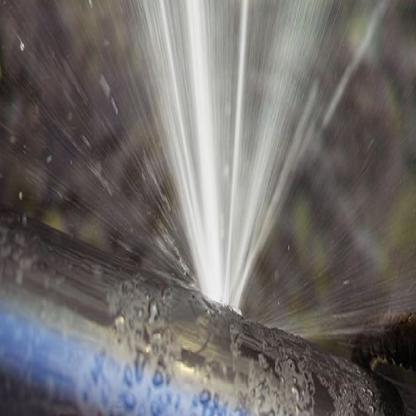burst: (158, 243, 301, 342)
